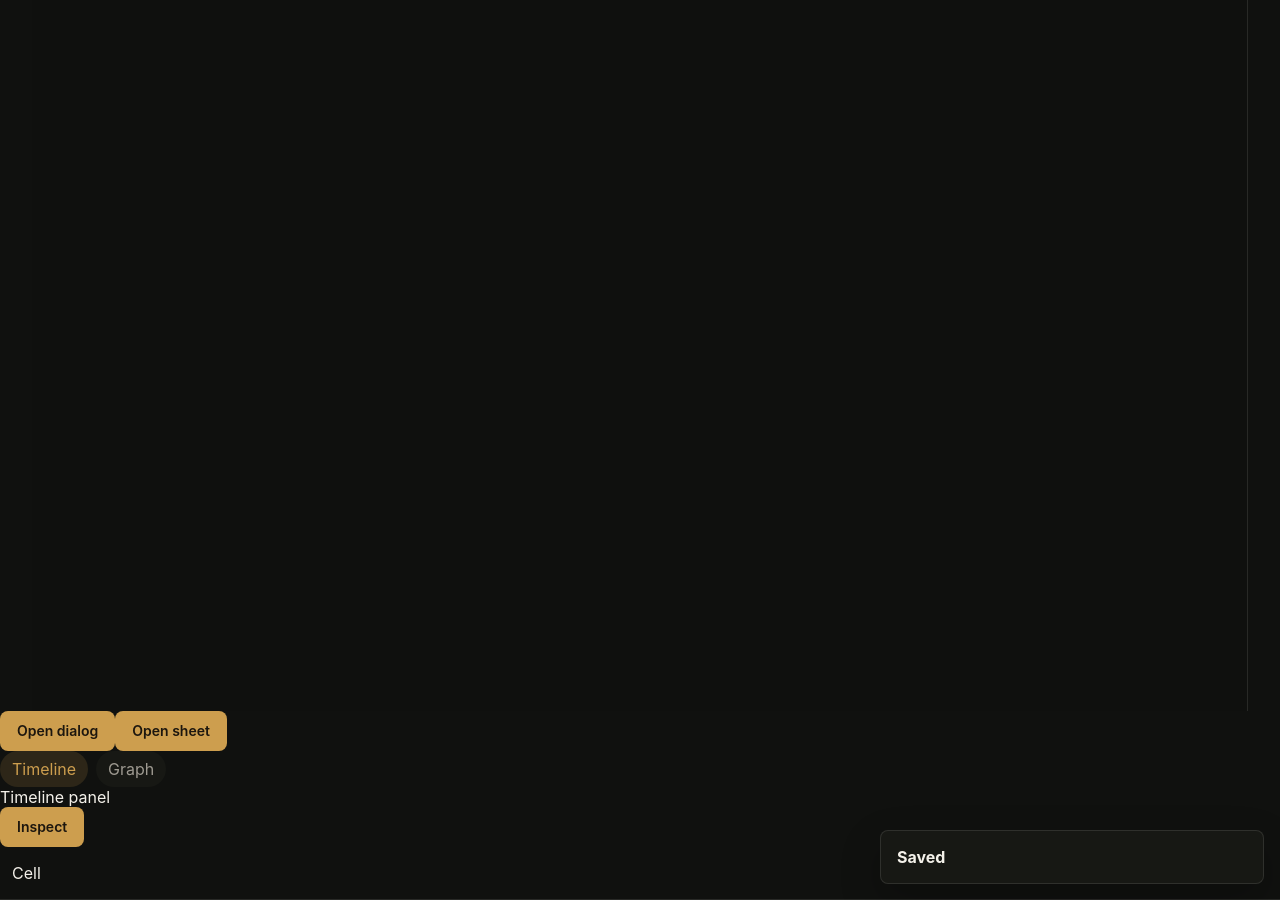
Test: ui primitives › renders the first ten primitives and preserves keyboard behavior
(page scrolled)
Click the button "Open dialog" at (58, 731), box x1=0 y1=711 x2=115 y2=751
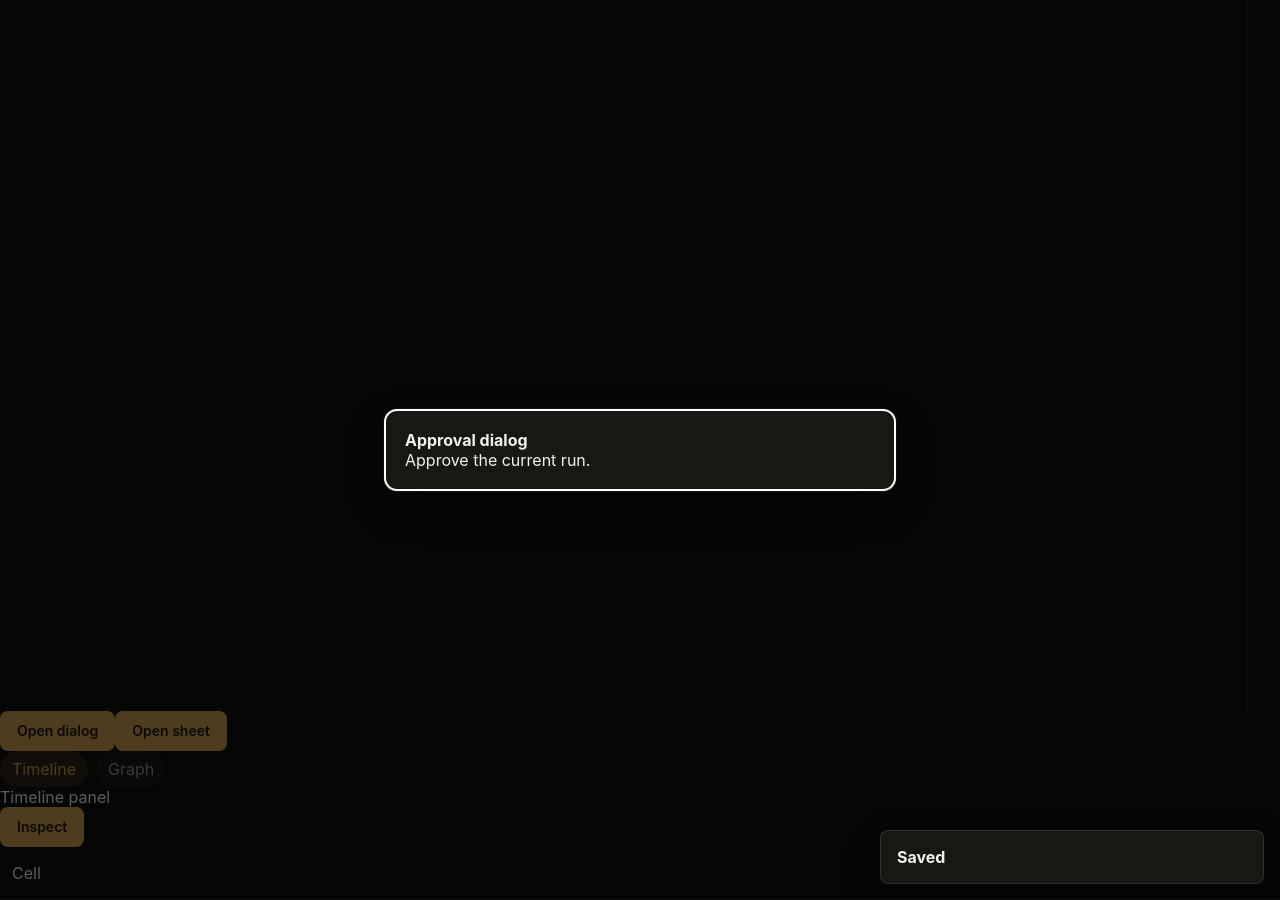
Expected: the dialog "Approval dialog" is shown, x1=384 y1=409 x2=896 y2=491
Press Escape
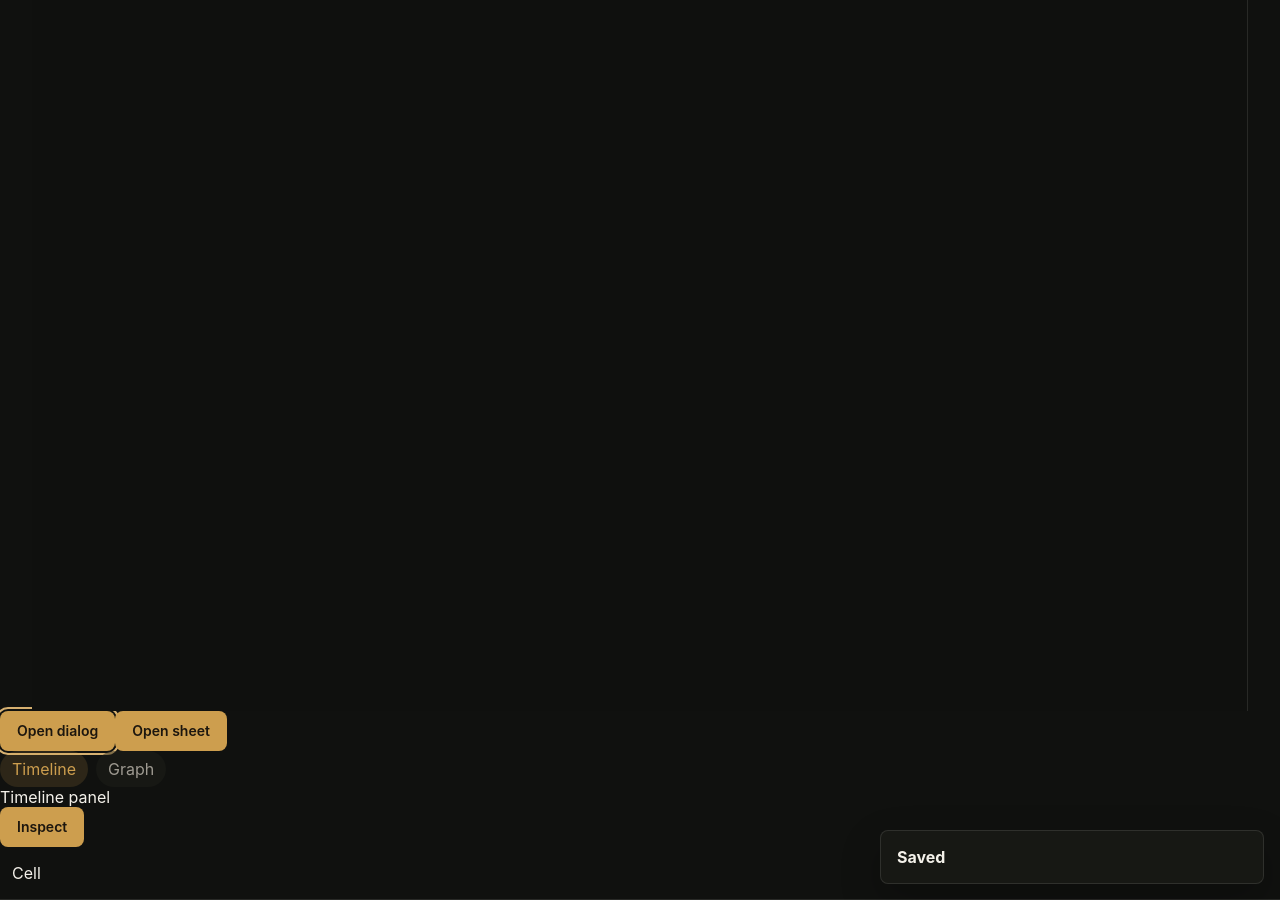
Expected: the heading "Approval dialog" is gone
Click the tab "Graph" at (131, 769), box x1=96 y1=751 x2=166 y2=787
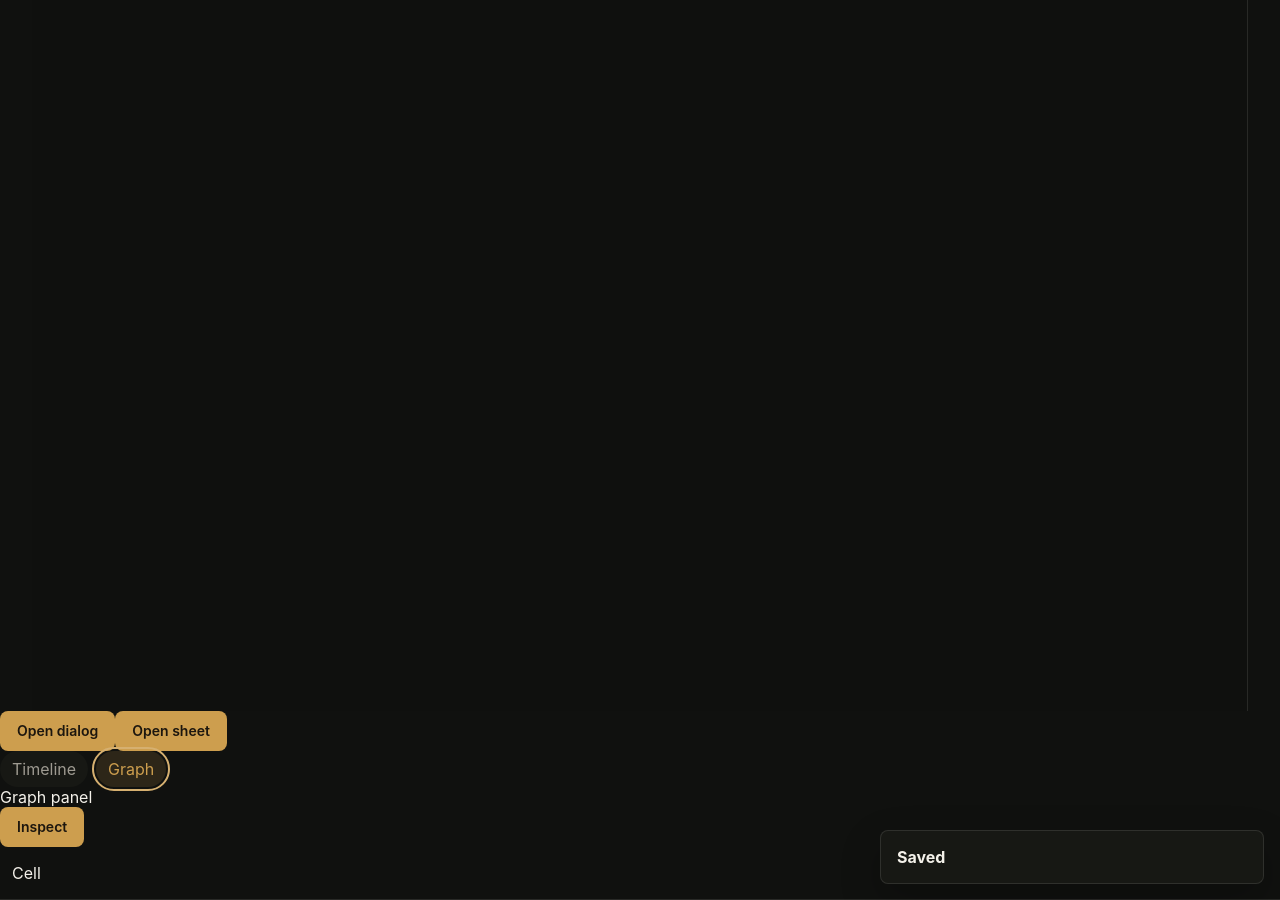
Expected: the text "Cell" is shown, x1=0 y1=847 x2=1279 y2=899
Expected: the text "Graph panel" is shown, x1=0 y1=787 x2=92 y2=807
